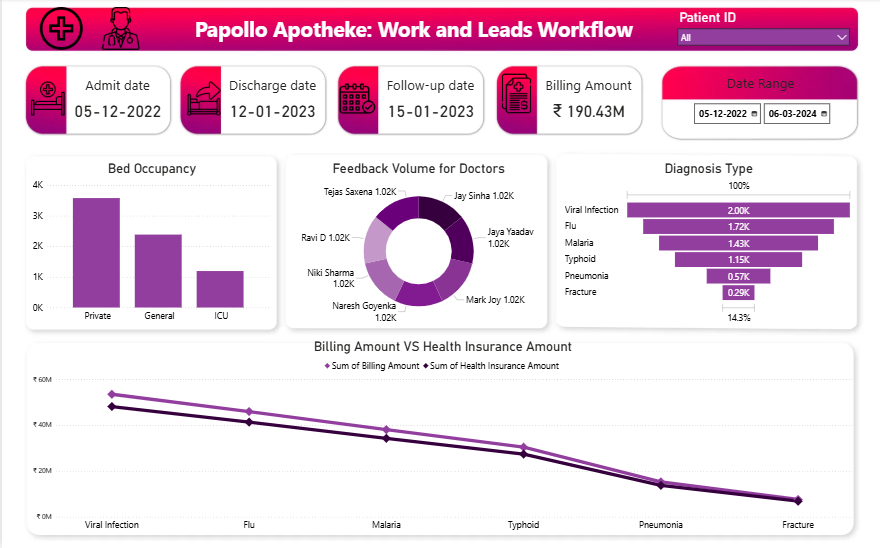

Layout of this report page (visuals, bound fields, positions):
{"tool":"powerbi","page":{"name":"Page 1","canvas":[1600,1000],"ordinal":0},"visuals":[{"type":"image","box":[21.8,16.4,172.7,78.2],"z":0},{"type":"textbox","box":[345.5,25.5,823.6,69.1],"z":1000},{"type":"slicer","fields":{"Values":["Healtcare-Dataset.Patient_ID"]},"box":[1218.2,16.4,332.7,98.2],"z":2000},{"type":"card","fields":{"Values":["Min(Healtcare-Dataset.Admit_Date)"]},"box":[116.7,177.8,187.5,54.2],"z":3000},{"type":"textbox","box":[116.7,136.1,187.5,69.4],"z":4000},{"type":"textbox","box":[398.6,136.1,187.5,69.4],"z":5000},{"type":"card","fields":{"Values":["Min(Healtcare-Dataset.Discharge_Date)"]},"box":[398.6,177.8,187.5,54.2],"z":6000},{"type":"card","fields":{"Values":["Min(Healtcare-Dataset.Followup Date)"]},"box":[686.1,177.8,187.5,54.2],"z":7000},{"type":"textbox","box":[686.1,136.1,187.5,69.4],"z":8000},{"type":"textbox","box":[972.2,136.1,187.5,69.4],"z":9000},{"type":"card","fields":{"Values":["Sum(Healtcare-Dataset.Billing Amount)"]},"box":[972.2,177.8,187.5,54.2],"z":10000},{"type":"slicer","fields":{"Values":["Healtcare-Dataset.Admit_Date"]},"box":[1245.5,181.8,280,58.2],"z":11000},{"type":"columnChart","title":"Bed Occupancy","fields":{"Category":["Healtcare-Dataset.Bed_Occupancy"],"Y":["CountNonNull(Healtcare-Dataset.Bed_Occupancy)"]},"box":[50,295.8,443.1,301.4],"z":12000},{"type":"donutChart","title":"Feedback Volume for Doctors","fields":{"Category":["Healtcare-Dataset.Doctor"],"Y":["CountNonNull(Healtcare-Dataset.Doctor)"]},"box":[529.2,295.8,456.9,301.4],"z":13000},{"type":"funnel","title":"Diagnosis Type","fields":{"Category":["Healtcare-Dataset.Diagnosis"],"Y":["CountNonNull(Healtcare-Dataset.Diagnosis)"]},"box":[1018.1,295.8,533.3,301.4],"z":14000},{"type":"lineChart","title":"Billing Amount VS Health Insurance Amount ","fields":{"Y":["Sum(Healtcare-Dataset.Billing Amount)","Sum(Healtcare-Dataset.Health Insurance Amount)"],"Category":["Healtcare-Dataset.Diagnosis"]},"box":[50,620.8,1501.4,358.3],"z":15000},{"type":"image","box":[93.9,16.3,242.9,77.6],"z":16000},{"type":"image","box":[51,132.7,65.3,100],"z":17000},{"type":"image","box":[336.7,132.7,61.2,100],"z":18000},{"type":"image","box":[608.2,132.7,77.6,100],"z":19000},{"type":"image","box":[900,114.3,71.4,118.4],"z":20000},{"type":"textbox","box":[1285.7,132.7,187.8,69.4],"z":20001}]}

Visuals, with their boxes in screenshot pixels (x1, y1, x2, y2), scaled from the page's 1600x1000 canvas onto the 880x548 screenshot:
image: box(12, 9, 107, 52)
textbox: box(190, 14, 643, 52)
slicer - Healtcare-Dataset.Patient_ID: box(670, 9, 853, 63)
card - Min(Healtcare-Dataset.Admit_Date): box(64, 97, 167, 127)
textbox: box(64, 75, 167, 113)
textbox: box(219, 75, 322, 113)
card - Min(Healtcare-Dataset.Discharge_Date): box(219, 97, 322, 127)
card - Min(Healtcare-Dataset.Followup Date): box(377, 97, 480, 127)
textbox: box(377, 75, 480, 113)
textbox: box(535, 75, 638, 113)
card - Sum(Healtcare-Dataset.Billing Amount): box(535, 97, 638, 127)
slicer - Healtcare-Dataset.Admit_Date: box(685, 100, 839, 132)
"Bed Occupancy" columnChart: box(28, 162, 271, 327)
"Feedback Volume for Doctors" donutChart: box(291, 162, 542, 327)
"Diagnosis Type" funnel: box(560, 162, 853, 327)
"Billing Amount VS Health Insurance Amount " lineChart: box(28, 340, 853, 537)
image: box(52, 9, 185, 51)
image: box(28, 73, 64, 128)
image: box(185, 73, 219, 128)
image: box(335, 73, 377, 128)
image: box(495, 63, 534, 128)
textbox: box(707, 73, 810, 111)
